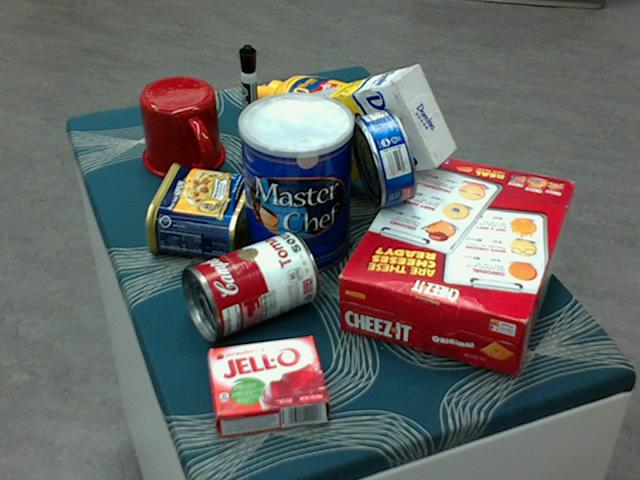cracker_box: (336, 151, 574, 373)
gelatin_box: (207, 335, 329, 435)
large_marker: (238, 44, 260, 147)
master_chef_can: (237, 93, 353, 278)
mug: (139, 76, 226, 180)
mustard_bottle: (252, 74, 418, 160)
potted_meat_can: (144, 163, 255, 258)
sugar_box: (274, 65, 455, 185)
tomato_soup_can: (179, 232, 317, 339)
tuna_fish_can: (351, 106, 417, 205)
